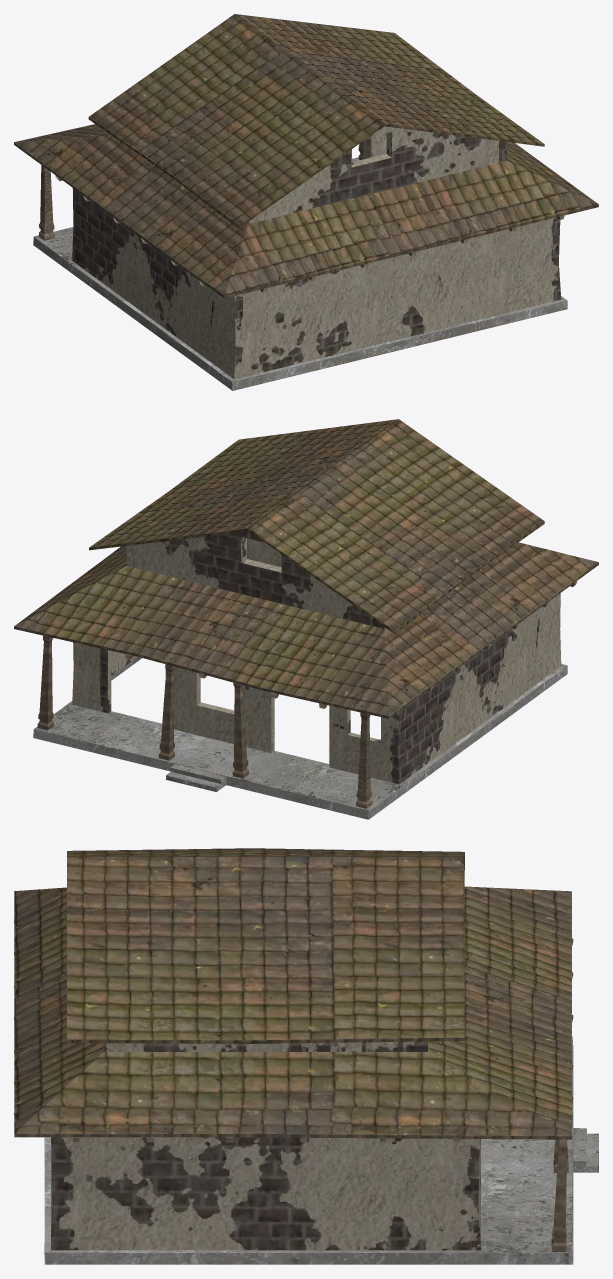
The model's file is house-2.glb.
The picture shows the model from 3 angles, top to bottom: view 1: azimuth 30°, elevation 25°; view 2: azimuth 150°, elevation 25°; view 3: azimuth 270°, elevation 25°; orthographic projection. The views are drawn at different scales.
Parts seen in each view (by area): view 1: building_001.002_Material_0; view 2: building_001.002_Material_0; view 3: building_001.002_Material_0.
Boxes of the visible parts, x1,y1,x2,y2 form: building_001.002_Material_0: (14, 14, 598, 390); building_001.002_Material_0: (14, 419, 598, 819); building_001.002_Material_0: (14, 848, 598, 1264).
Bounding box in the file's own units: 8.96 × 5.06 × 9.11.
Materials: 1 (1 with a texture image).
